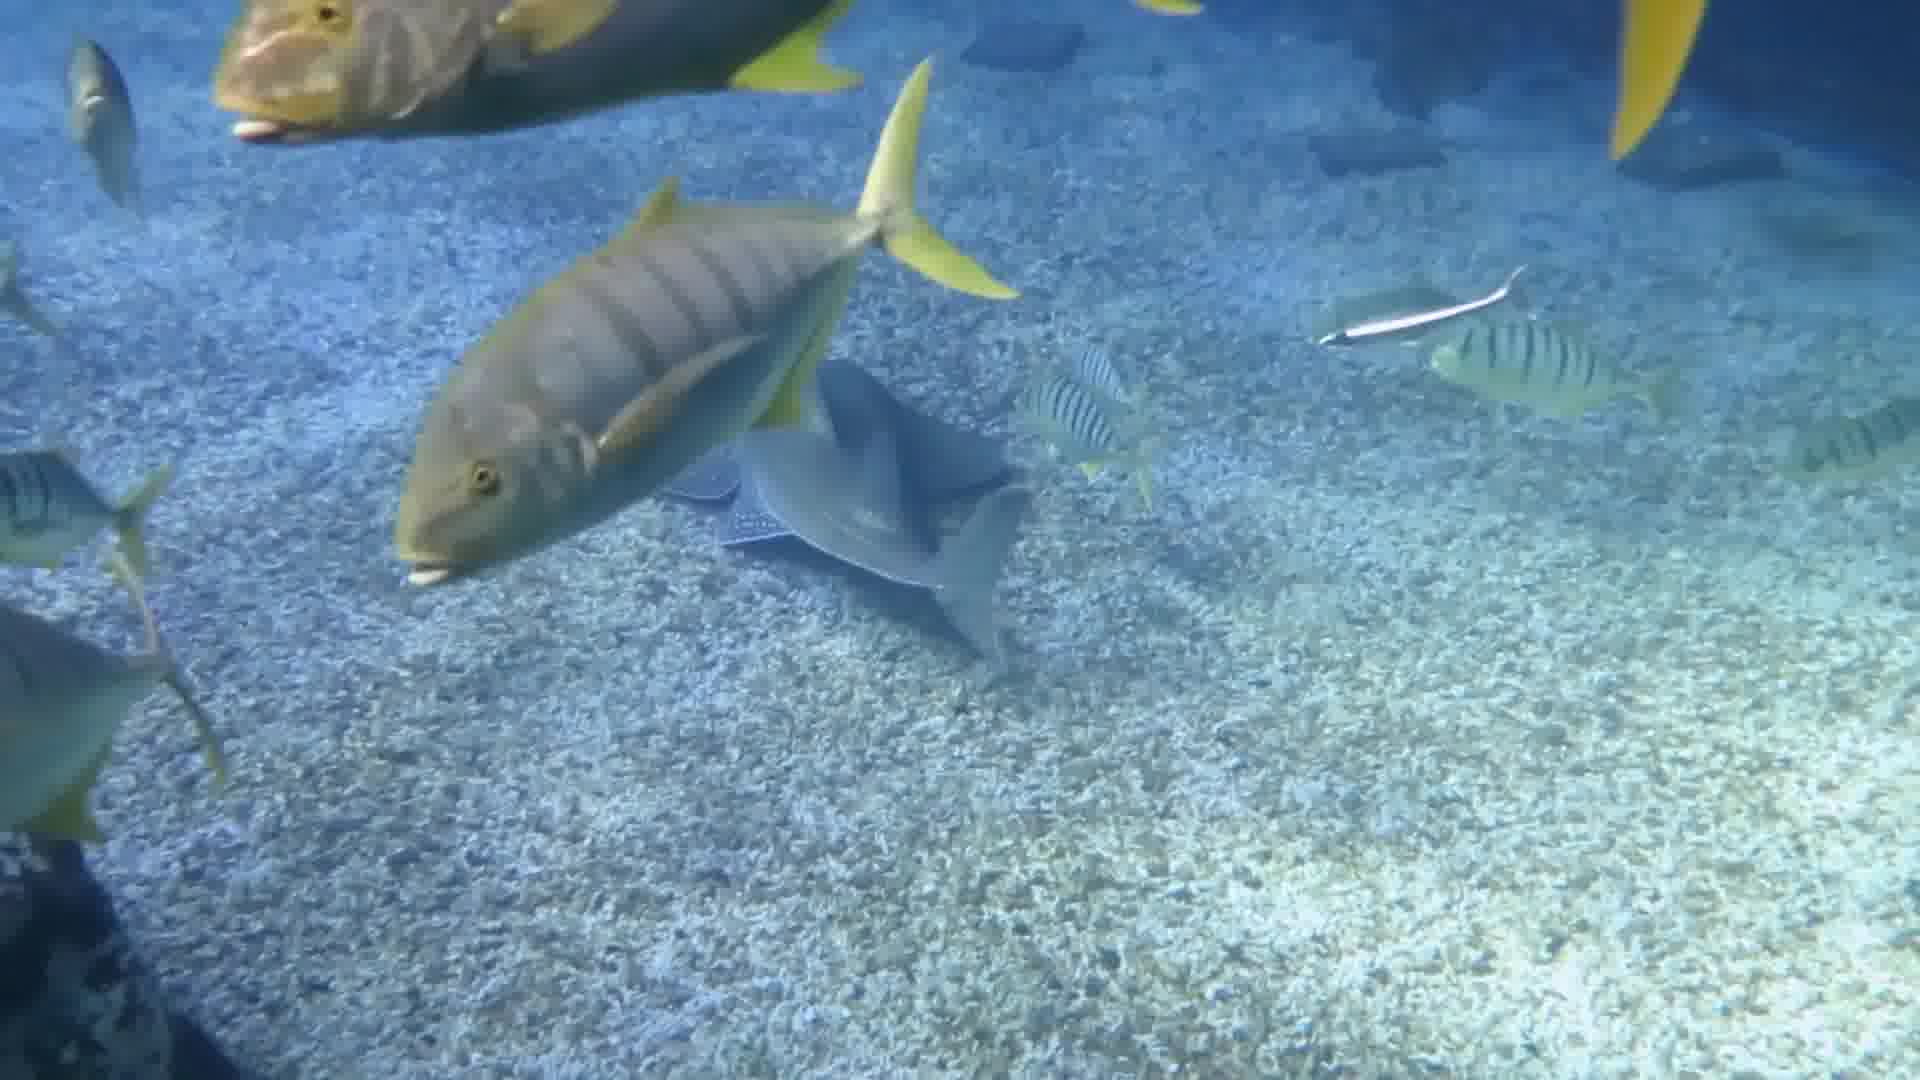Rhychobatus djiddensis: (745, 345, 1073, 624)
